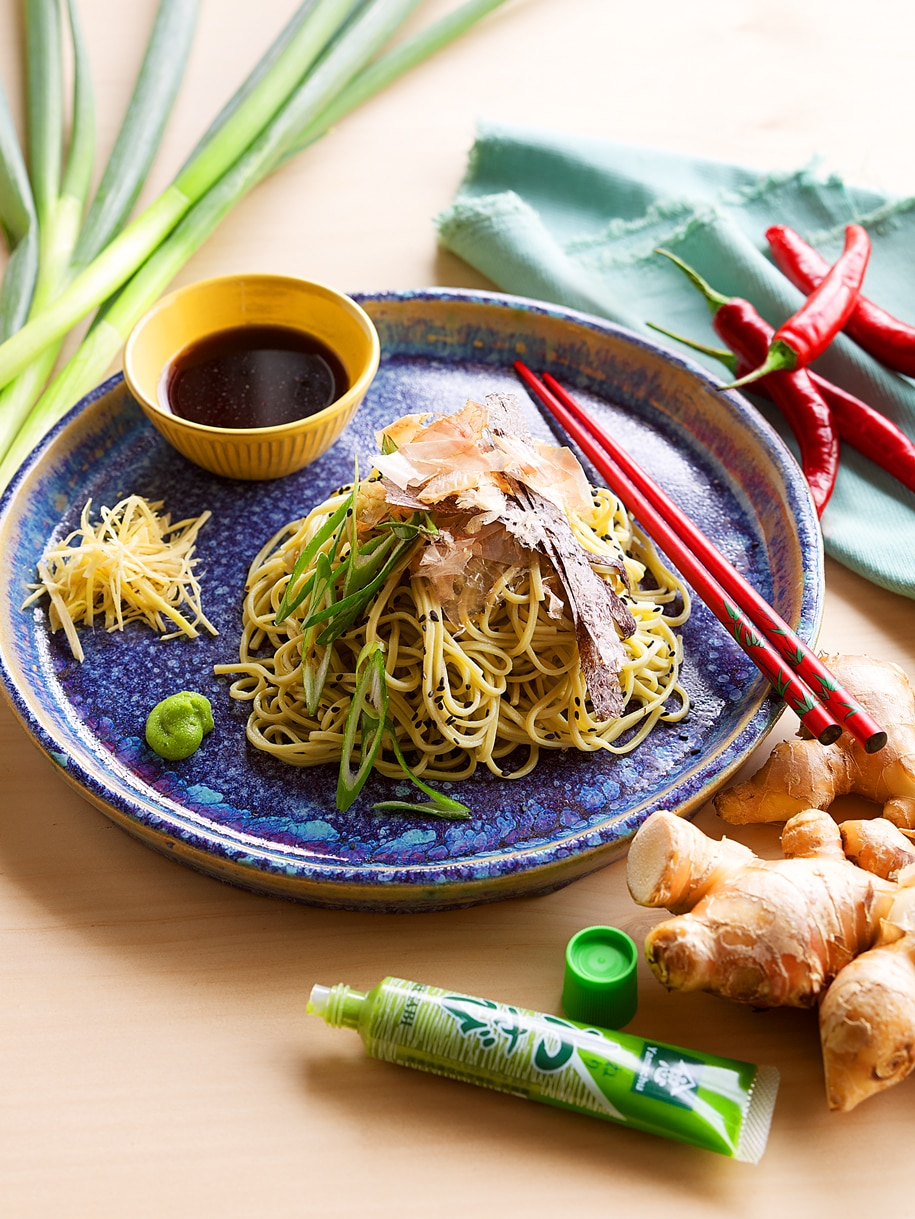Soba: (236, 449, 688, 783)
